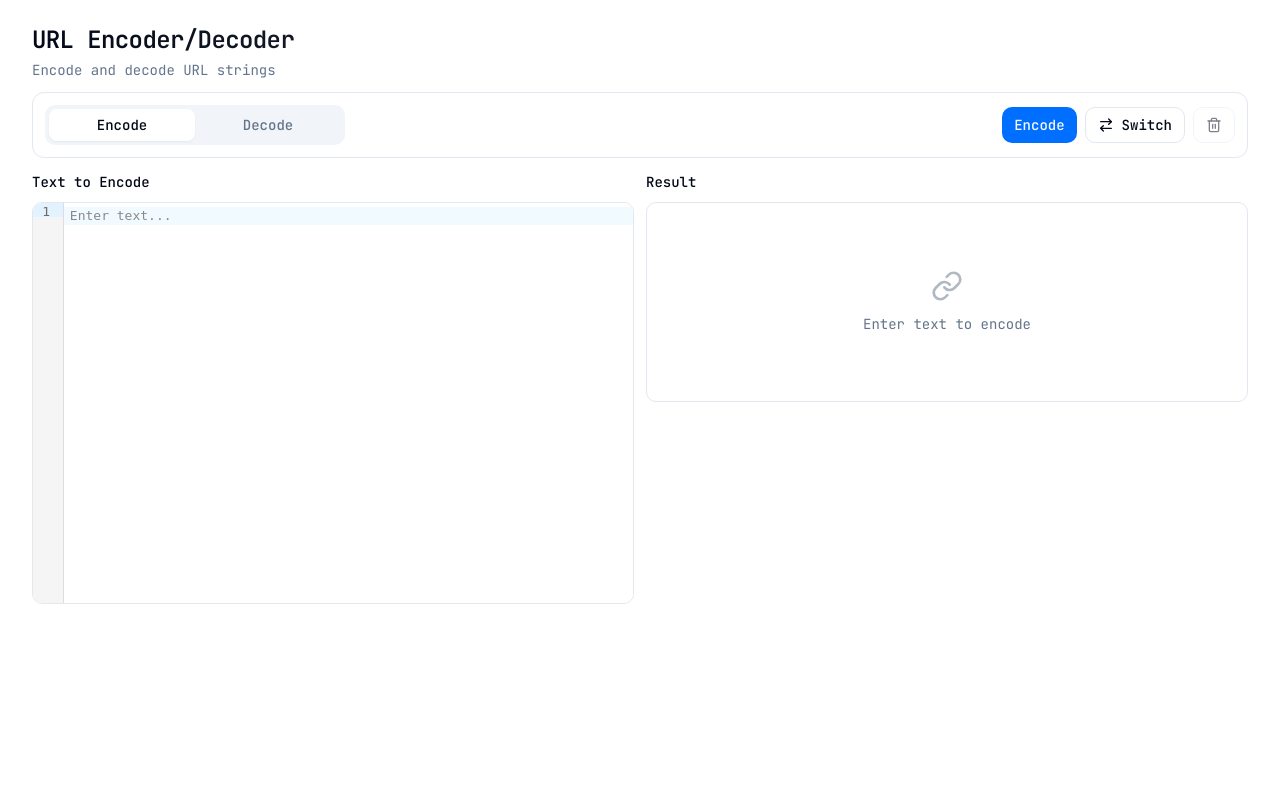
URLEncoderPage › decoding › shows decode empty state
Press the mouse on the tab "Decode" at (268, 125), box [195, 109, 341, 141]
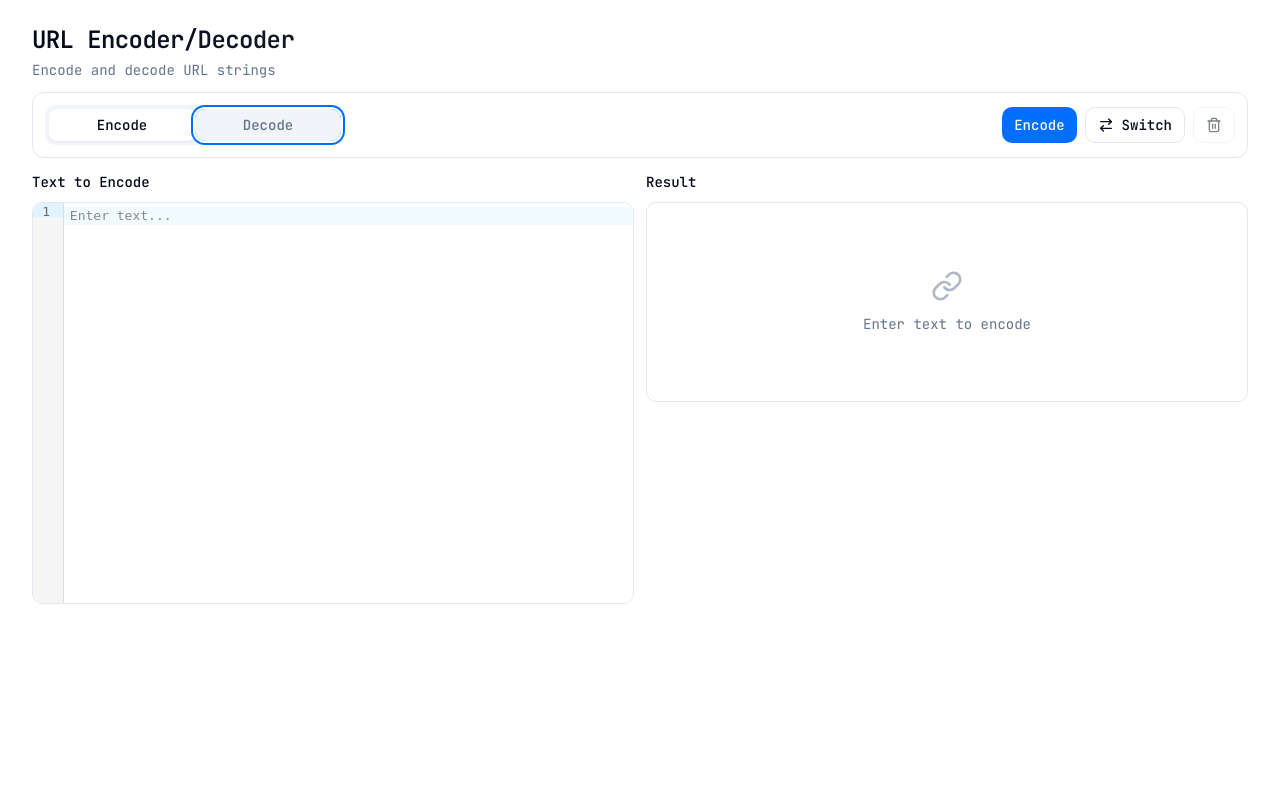
Click the tab "Decode" at (268, 125), box [195, 109, 341, 141]
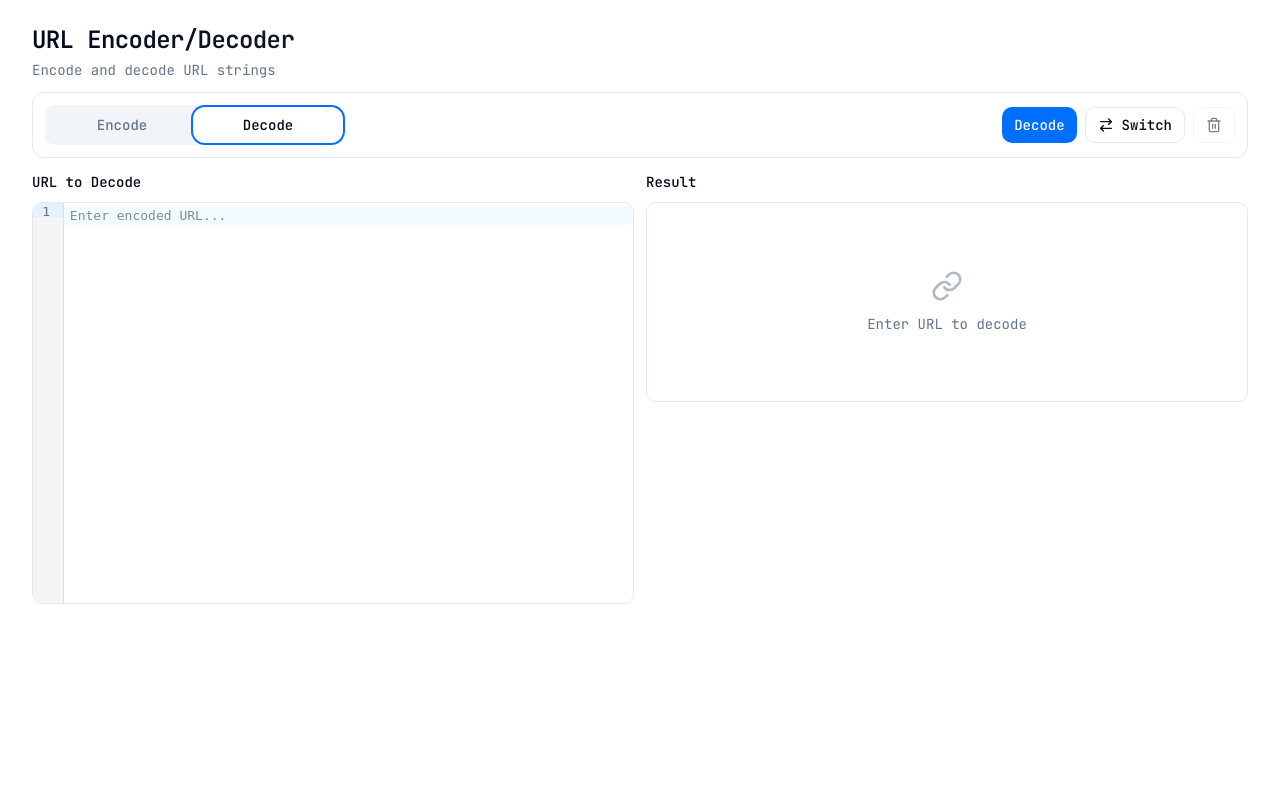
Check: the text "Enter URL to decode" is shown, box [867, 314, 1027, 334]
